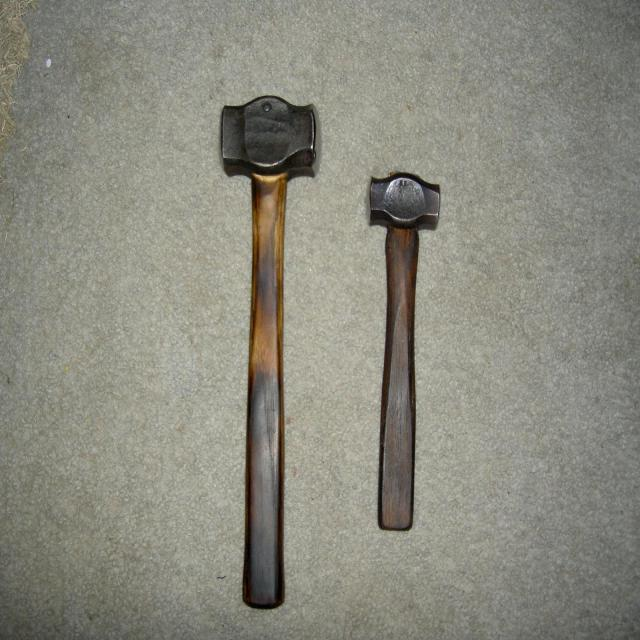hammer: (212, 90, 322, 618), (364, 165, 444, 534)
